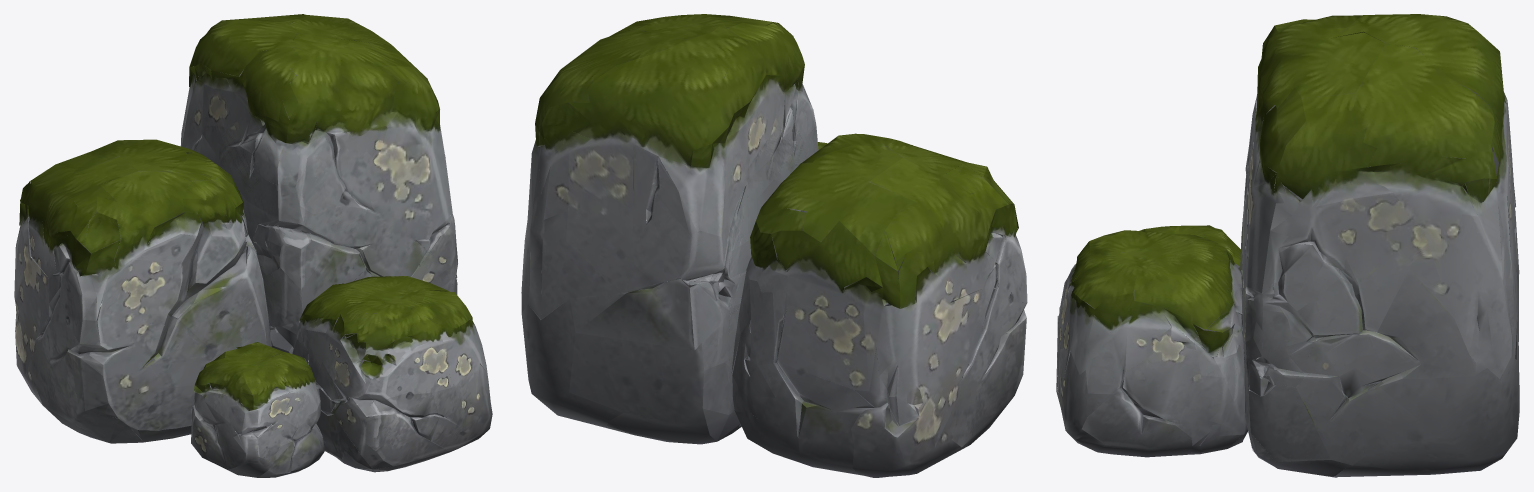
Rendered from boulders.glb.
The picture shows the model from 3 angles, left to right: view 1: azimuth 30°, elevation 25°; view 2: azimuth 150°, elevation 25°; view 3: azimuth 270°, elevation 25°; orthographic projection. The views are drawn at different scales.
Parts seen in each view (by area): view 1: Mesh_0; view 2: Mesh_0; view 3: Mesh_0.
Part boxes in pixels (x1,y1,x2,y2): Mesh_0: [14, 14, 492, 477]; Mesh_0: [521, 14, 1027, 477]; Mesh_0: [1056, 14, 1519, 477].
Bounding box in the file's own units: 4.05 × 3.4 × 3.69.
1 material, 1 textured.
